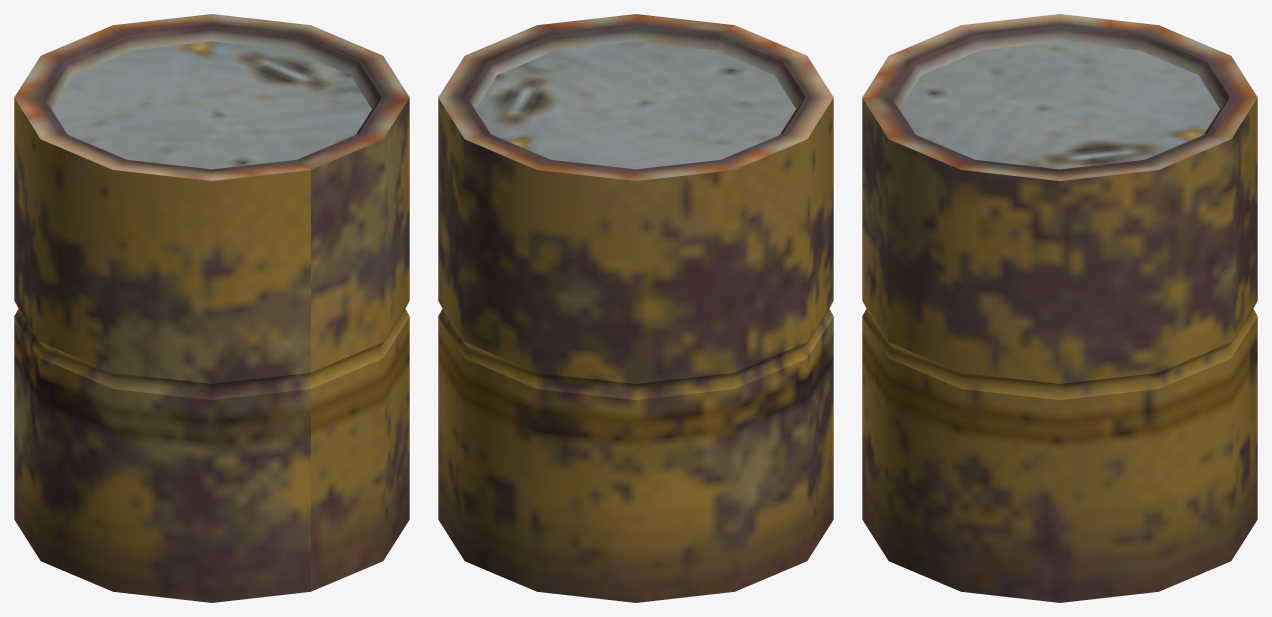
Rendered from SM_BIG_BARREL_01.fbx.
The picture shows the model from 3 angles, left to right: view 1: azimuth 30°, elevation 25°; view 2: azimuth 150°, elevation 25°; view 3: azimuth 270°, elevation 25°; orthographic projection.
Visible parts, largest first — view 1: SM_BIG_BARREL_01; view 2: SM_BIG_BARREL_01; view 3: SM_BIG_BARREL_01.
Part boxes in pixels (x1,y1,x2,y2): SM_BIG_BARREL_01: (14, 14, 409, 602); SM_BIG_BARREL_01: (438, 14, 833, 602); SM_BIG_BARREL_01: (862, 14, 1257, 602).
Bounding box in the file's own units: 0.85 × 1 × 0.85.
